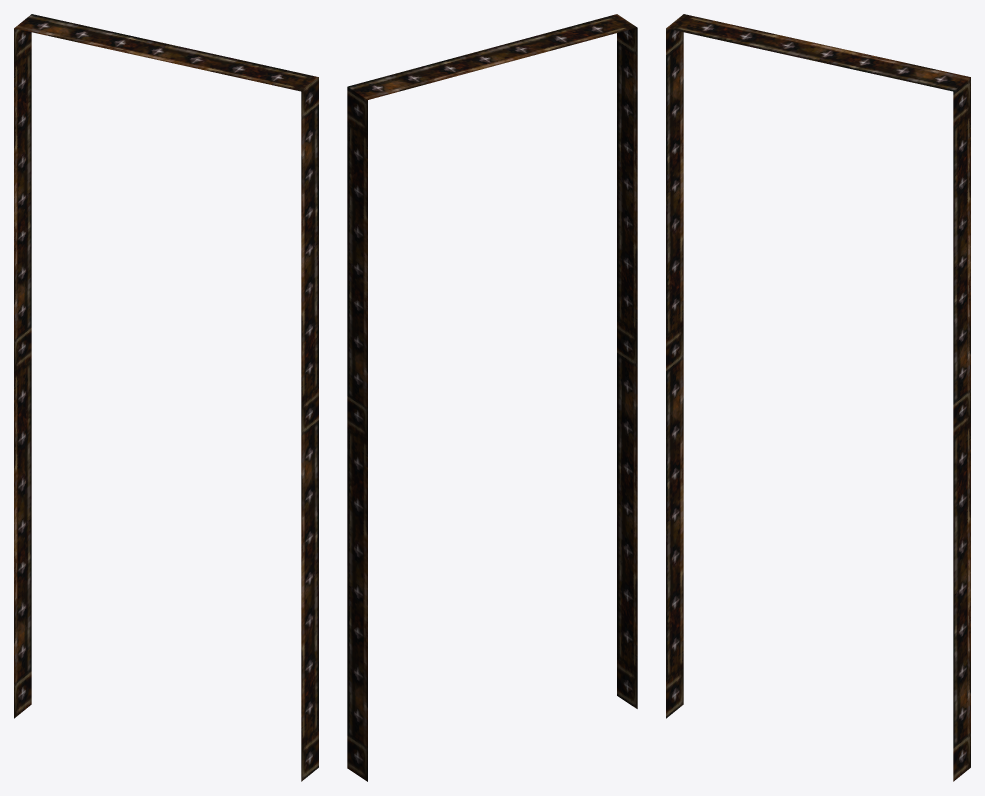
File: OVERHILL_A_01_LINE177.fbx
The picture shows the model from 3 angles, left to right: view 1: azimuth 90°, elevation 25°; view 2: azimuth 150°, elevation 25°; view 3: azimuth 270°, elevation 25°; orthographic projection.
Visible parts, largest first — view 1: OVERHILL_A_01_LINE177; view 2: OVERHILL_A_01_LINE177; view 3: OVERHILL_A_01_LINE177.
Part boxes in pixels (x1=…): OVERHILL_A_01_LINE177: x1=14, y1=14, x2=318, y2=781; OVERHILL_A_01_LINE177: x1=347, y1=14, x2=637, y2=781; OVERHILL_A_01_LINE177: x1=666, y1=14, x2=970, y2=781.
Bounding box in the file's own units: 9831 × 40800 × 16331.
1 material, 1 textured.
